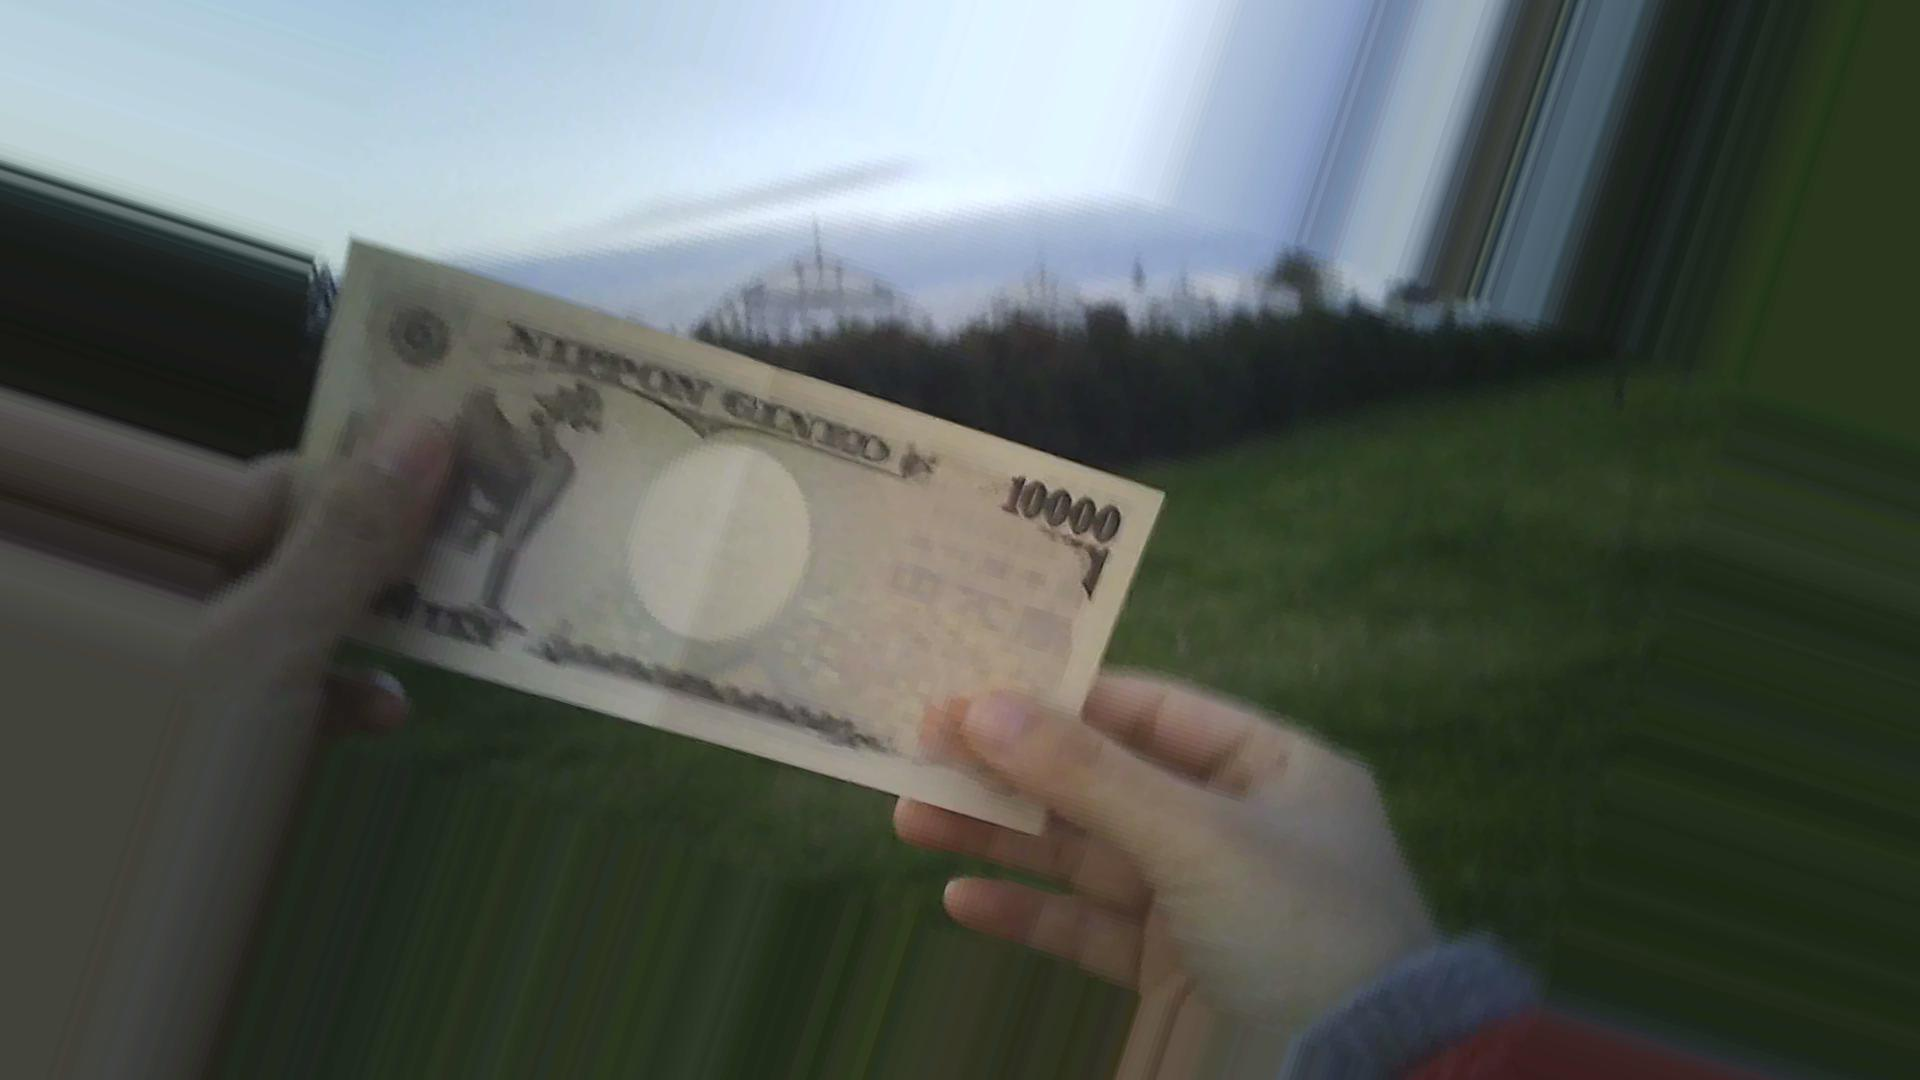10,000 Yen: (268, 228, 1197, 868)
